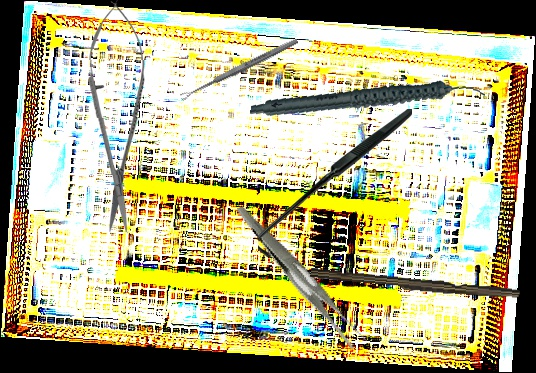Dressing Forceps: (236, 181, 368, 370)
Handpiece: (249, 54, 487, 147)
Hook Surgical: (258, 109, 412, 257)
Micro Scissor: (85, 0, 149, 235)
Scalpel Handle: (309, 267, 521, 303)
Surgical Spoon: (178, 36, 300, 102)
